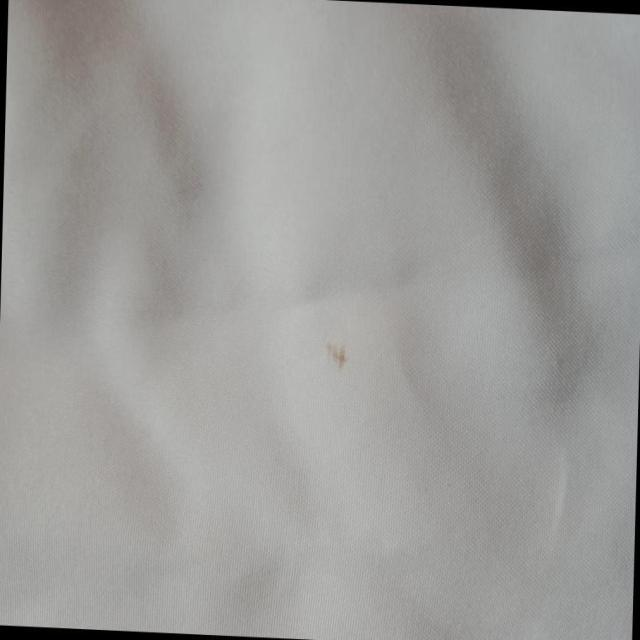stain: (313, 329, 361, 380)
